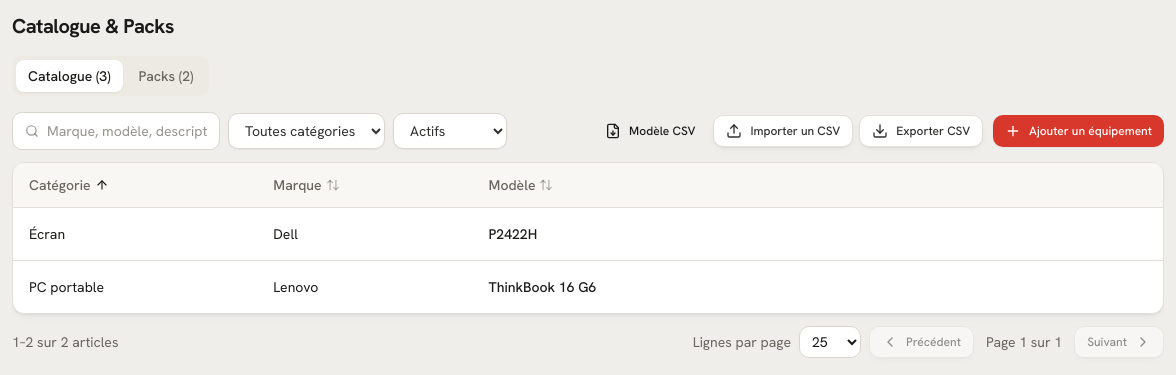
Test: CataloguePage › masque les packs desactives par defaut, le filtre d'etat les affiche
Expected: the text "Lenovo" is shown, [257,260,472,313]
Click the tab "Packs (2)" at (166, 76), box [127,60,206,92]
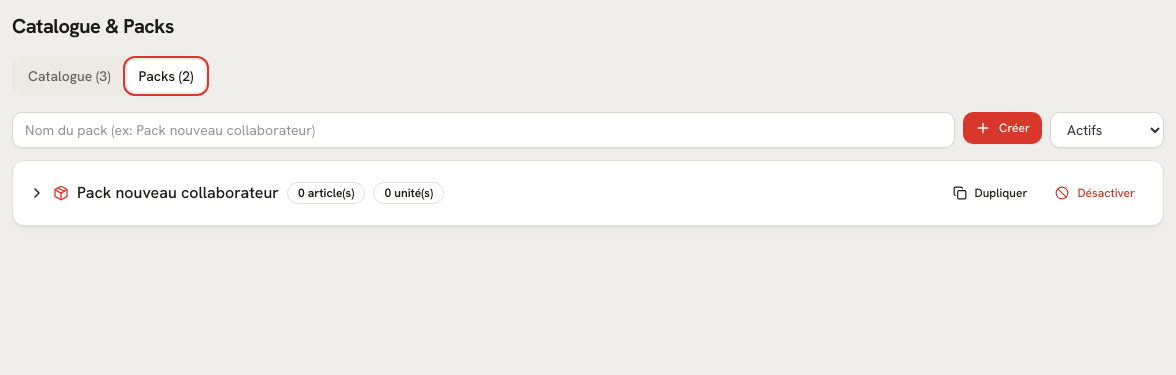
Expected: the text "Pack ancien modèle" is not shown
Expected: the button "Pack nouveau collaborateur" is shown, [29,181,444,205]
Select "Tous" in the dropdown named "Filtrer les packs par état" at (1107, 130), box [1050,112,1164,148]
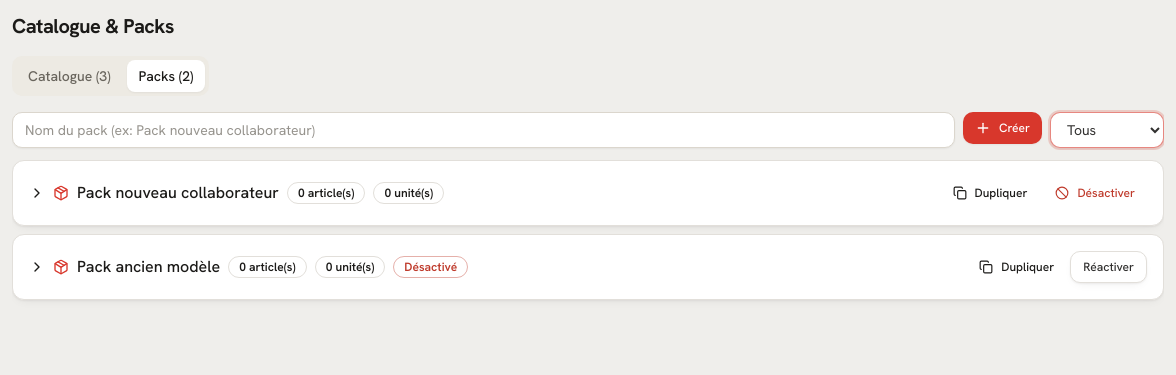
Expected: the button "Pack ancien modèle" is shown, [29,255,468,279]
